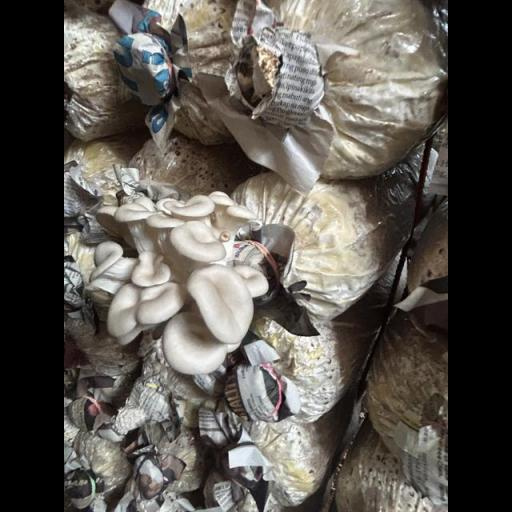White Oyster Mushroom: (86, 188, 272, 378)
